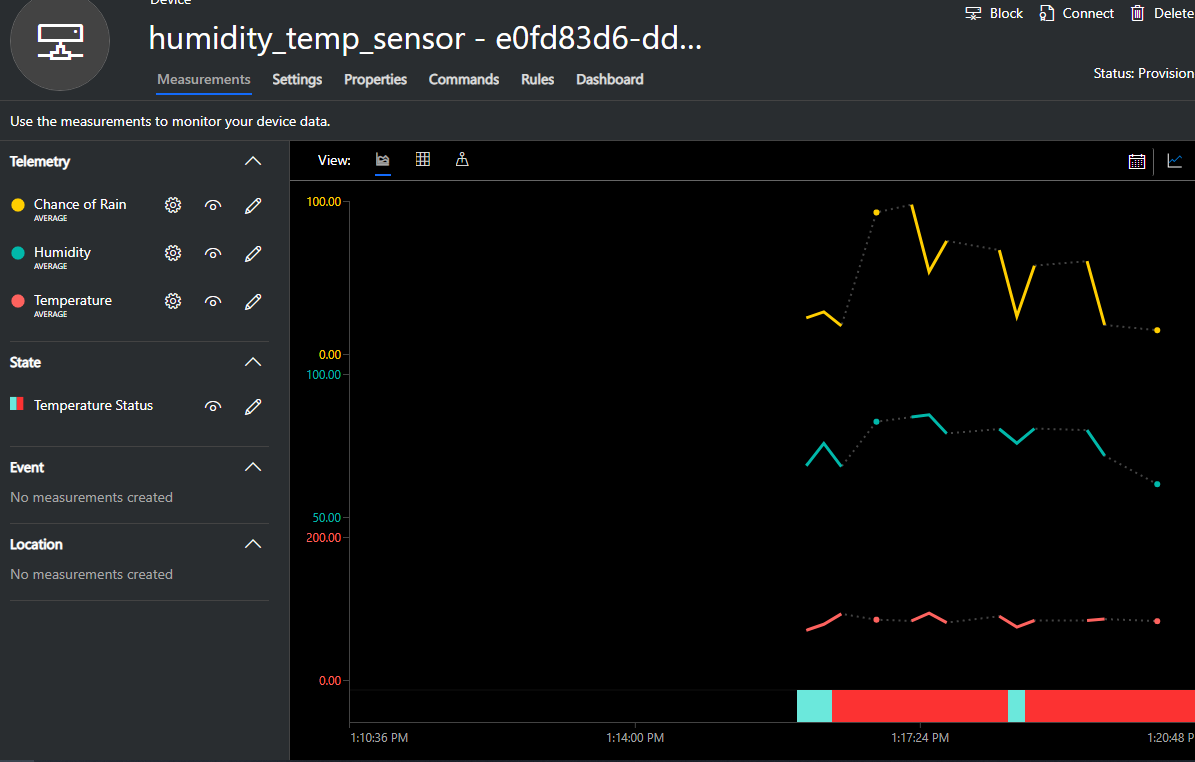

What the dashboard file says about the page in this screenshot:
{"tool":"powerbi","page":{"name":"Page 1","canvas":[1280,720],"ordinal":0},"visuals":[{"type":"lineChart","fields":{"Y":["Avg(MyCollection.Document.humidity)","Avg(MyCollection.Document.temperature)"],"Category":["MyCollection.Document.timeStamp"]},"box":[0,0,727.3,546.6],"z":1},{"type":"pieChart","fields":{"Category":["MyCollection.Document.tempStatus"],"Y":["CountNonNull(MyCollection.Document.tempStatus)"]},"box":[753.3,35.2,526.7,372.1],"z":2},{"type":"lineChart","fields":{"Y":["Sum(MyCollection.Document.chanceOfRain)"],"Category":["MyCollection.Document.timeStamp"]},"box":[753.3,407.3,526.7,251.1],"z":3}]}

Visuals, with their boxes on the page's 1280x720 design canvas (x1, y1, x2, y2). These are canvas units, not pixel positions in the 1195x762 screenshot, which may show the page scaled, cropped or inside an application window:
lineChart - Avg(MyCollection.Document.humidity) x Avg(MyCollection.Document.temperature): BBox(0, 0, 727, 547)
pieChart - MyCollection.Document.tempStatus x CountNonNull(MyCollection.Document.tempStatus): BBox(753, 35, 1280, 407)
lineChart - Sum(MyCollection.Document.chanceOfRain) x MyCollection.Document.timeStamp: BBox(753, 407, 1280, 658)
